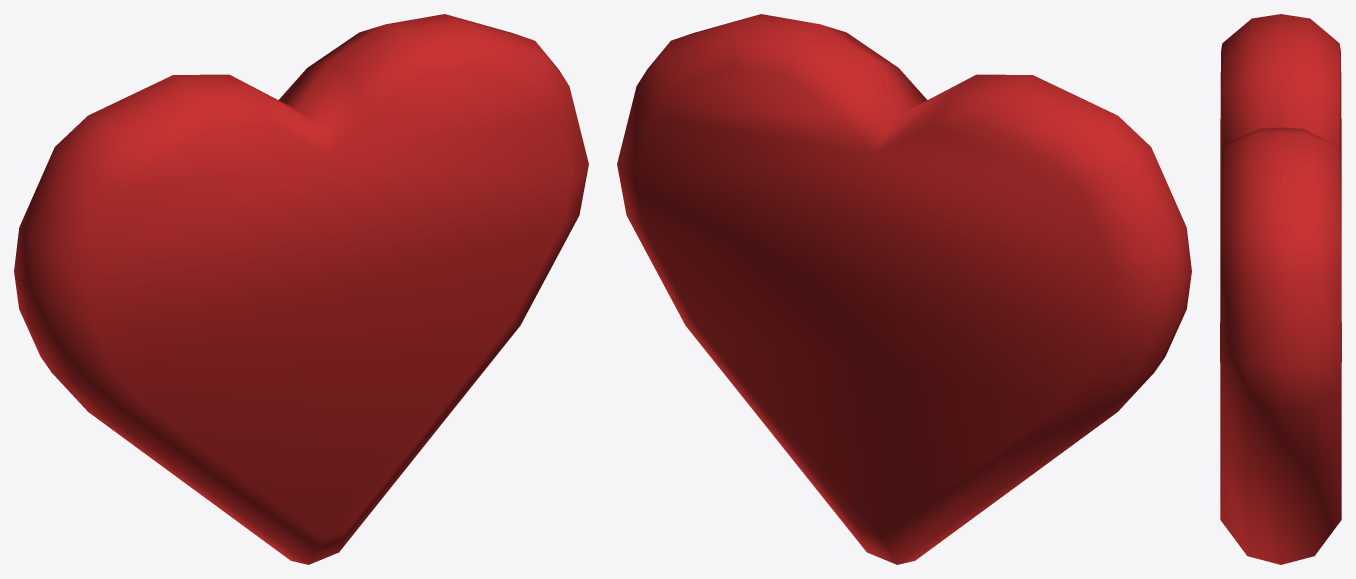
The model's file is Heart.fbx.
The picture shows the model from 3 angles, left to right: view 1: azimuth 30°, elevation 25°; view 2: azimuth 150°, elevation 25°; view 3: azimuth 270°, elevation 25°; orthographic projection. The views are drawn at different scales.
Visible parts, largest first — view 1: Heart; view 2: Heart; view 3: Heart.
Boxes of the visible parts, <box> form: Heart: <box>14,14,588,564</box>; Heart: <box>617,14,1191,564</box>; Heart: <box>1220,14,1341,564</box>.
Size of the model in its own units: 3.37 by 2.93 by 0.6824.
